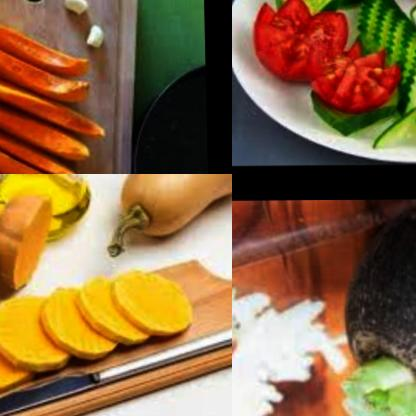cucumber: (358, 0, 416, 105)
garlic: (83, 22, 107, 53), (60, 0, 91, 20)
pumpkin: (97, 174, 232, 259), (0, 74, 108, 160), (0, 11, 91, 100), (41, 282, 119, 365), (0, 290, 69, 383), (120, 265, 199, 344), (0, 193, 56, 296), (76, 273, 147, 352), (0, 112, 90, 174), (0, 309, 27, 391)
redka: (331, 207, 416, 416), (232, 282, 340, 416)
tomato: (247, 0, 355, 83), (313, 32, 399, 113)
